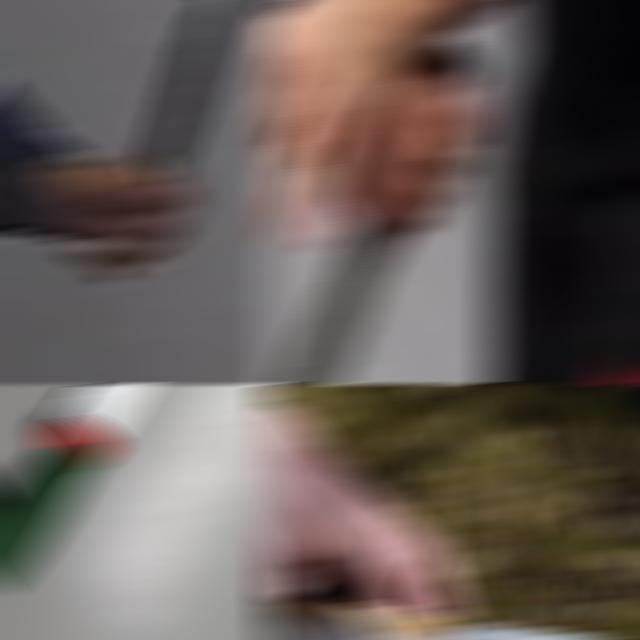Knife: (0, 384, 154, 589), (260, 230, 412, 384), (260, 592, 640, 640), (135, 0, 233, 179)
Knife_Handle: (260, 384, 640, 640), (260, 48, 484, 384), (64, 0, 231, 273)
